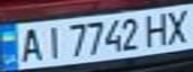2: (118, 15, 145, 52)
4: (103, 16, 127, 54)
7: (63, 20, 87, 57), (84, 18, 106, 56)
A: (15, 25, 48, 63)
H: (142, 10, 175, 47)
I: (39, 24, 66, 60)
X: (160, 7, 193, 44)
